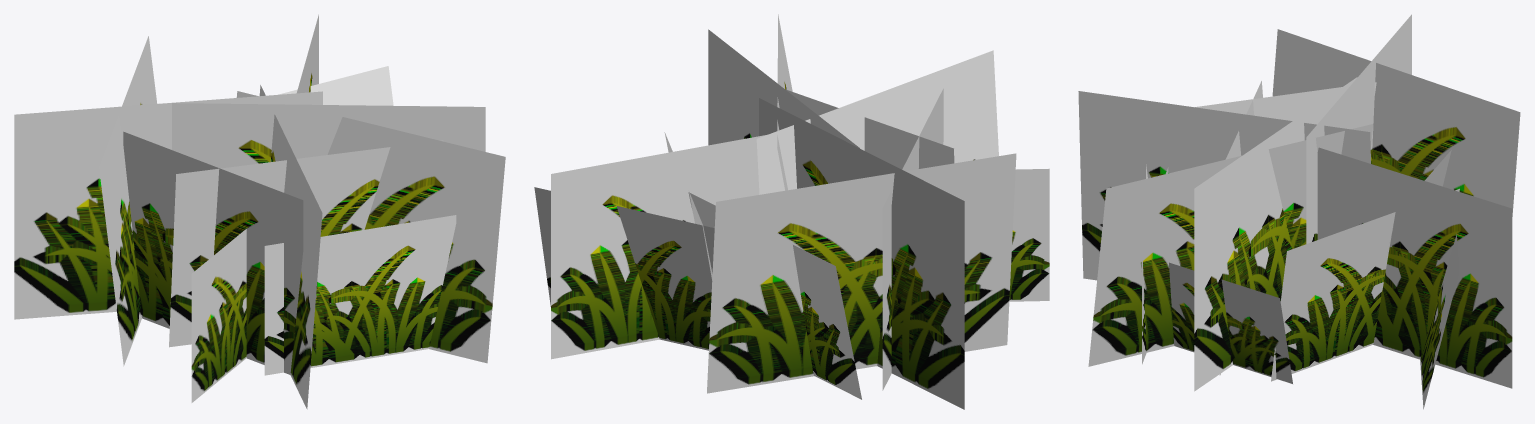
The model's file is mid_grass_05.gltf.
3 views of the same model, side by side, from view 1: azimuth 30°, elevation 25°; view 2: azimuth 150°, elevation 25°; view 3: azimuth 270°, elevation 25° (orthographic). The views are drawn at different scales.
Visible parts, largest first — view 1: default; view 2: default; view 3: default.
Part boxes in pixels (x1,y1,x2,y2): default: [14, 14, 505, 409]; default: [534, 14, 1049, 409]; default: [1078, 14, 1520, 409].
Bounding box in the file's own units: 1.16 × 0.5771 × 1.13.
1 material, 1 textured.
